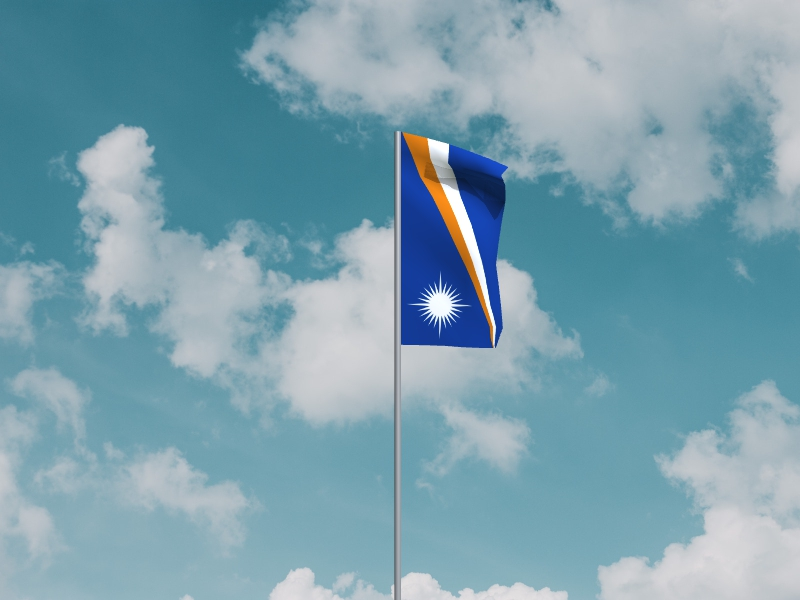mh: (401, 132, 510, 350)
